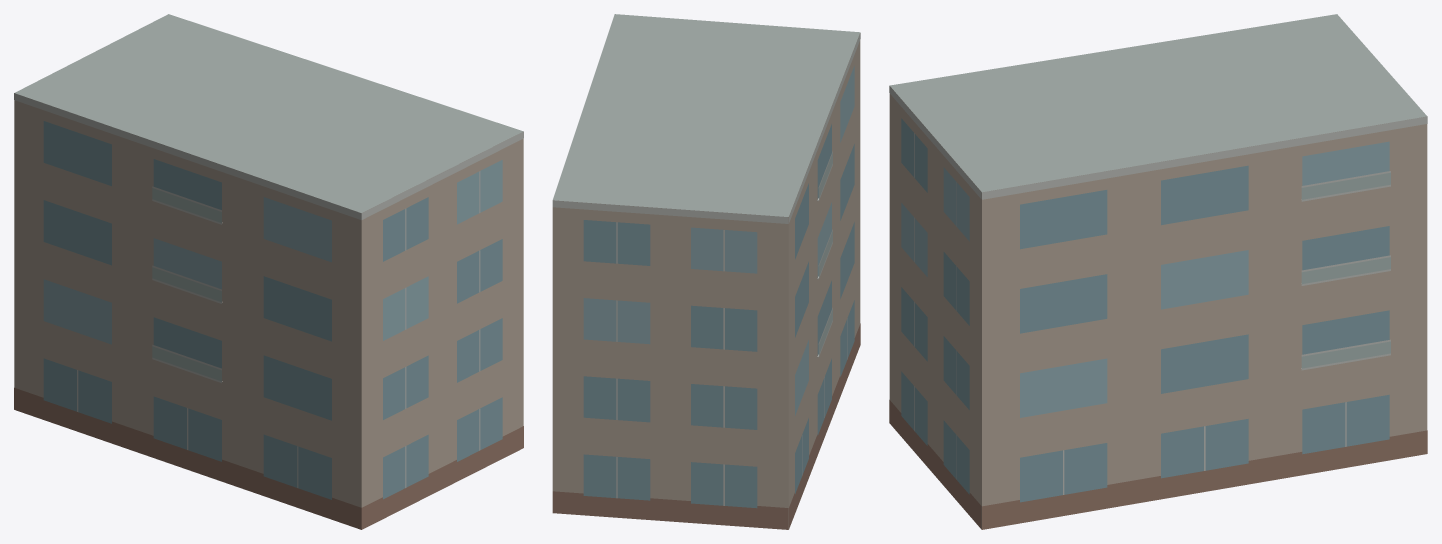
The model's file is survey-upis-32865602.glb.
The picture shows the model from 3 angles, left to right: view 1: azimuth 30°, elevation 25°; view 2: azimuth 150°, elevation 25°; view 3: azimuth 270°, elevation 25°; orthographic projection. The views are drawn at different scales.
Visible parts, largest first — view 1: survey-upis-32865602.tmp; view 2: survey-upis-32865602.tmp; view 3: survey-upis-32865602.tmp.
Part boxes in pixels (bbox=[...]): survey-upis-32865602.tmp: bbox=[14, 14, 523, 529]; survey-upis-32865602.tmp: bbox=[552, 14, 860, 529]; survey-upis-32865602.tmp: bbox=[889, 14, 1427, 529].
Bounding box in the file's own units: 12.47 × 11 × 15.9.
